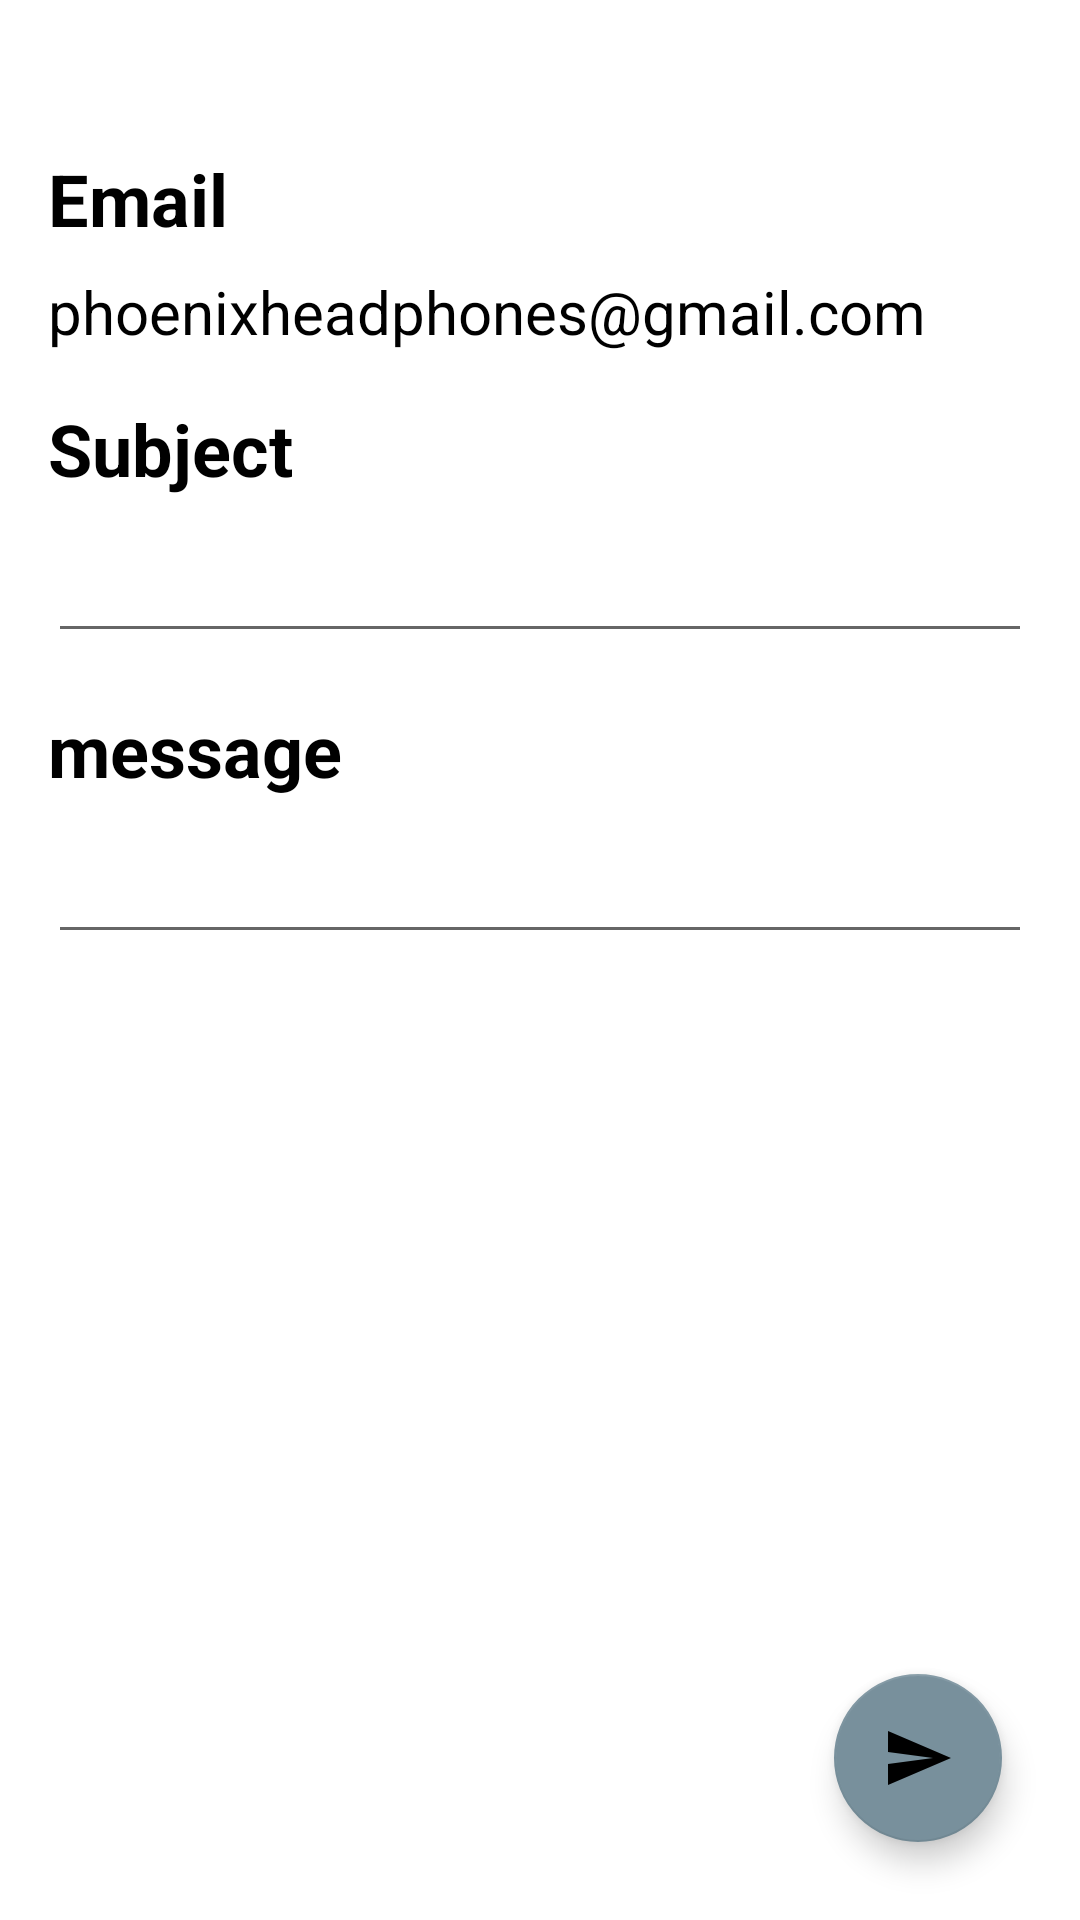

Named icons in this screenshot (1080 × 1920) and their centers, point (x, y):
send: point (918, 1758)
